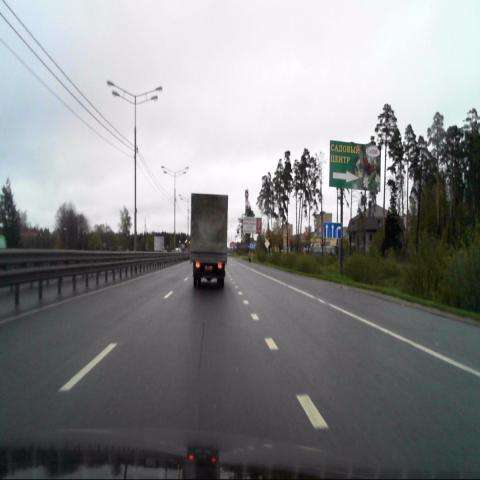5_15_1: (324, 223, 342, 237)
